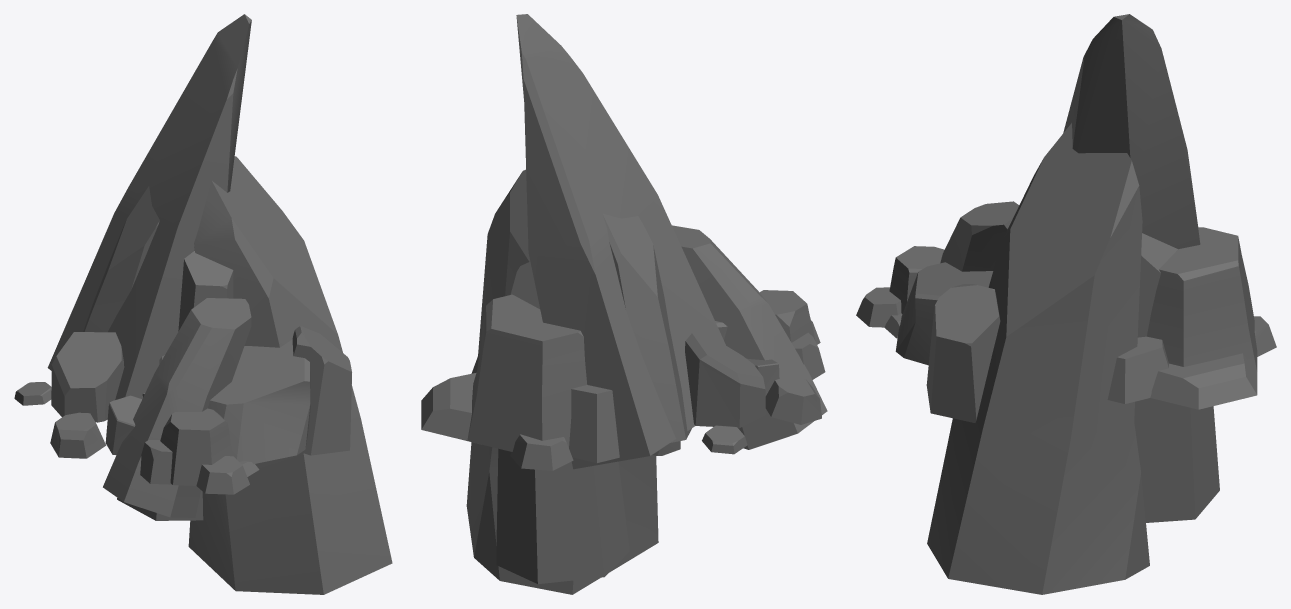
File: Zone3_RockIsland_1.fbx
3 renders of one model, left to right at view 1: azimuth 30°, elevation 25°; view 2: azimuth 150°, elevation 25°; view 3: azimuth 270°, elevation 25°, orthographic. The views are drawn at different scales.
Visible parts, largest first — view 1: rock_large_25, rock_large_26, rock_medium_52, rock_medium_54, rock_huge_25; view 2: rock_large_25, rock_medium_53, rock_medium_52, rock_large_26, rock_huge_25, rock_medium_54; view 3: rock_large_25, rock_medium_53, rock_large_26, rock_medium_54.
Boxes of the visible parts, box(x1,y1,x2,y2) form: rock_large_25: box(47, 14, 392, 594); rock_large_26: box(103, 298, 351, 517); rock_medium_52: box(14, 332, 141, 458); rock_medium_54: box(140, 408, 259, 494); rock_huge_25: box(83, 186, 159, 332); rock_large_25: box(466, 14, 725, 594); rock_medium_53: box(421, 294, 619, 470); rock_medium_52: box(652, 333, 821, 455); rock_large_26: box(672, 225, 827, 449); rock_huge_25: box(602, 213, 691, 442); rock_medium_54: box(760, 290, 825, 379); rock_large_25: box(927, 14, 1219, 594); rock_medium_53: box(1107, 227, 1276, 409); rock_large_26: box(895, 201, 1018, 422); rock_medium_54: box(856, 246, 944, 338).
Size of the model in its own units: 24947 by 38667 by 26675.
